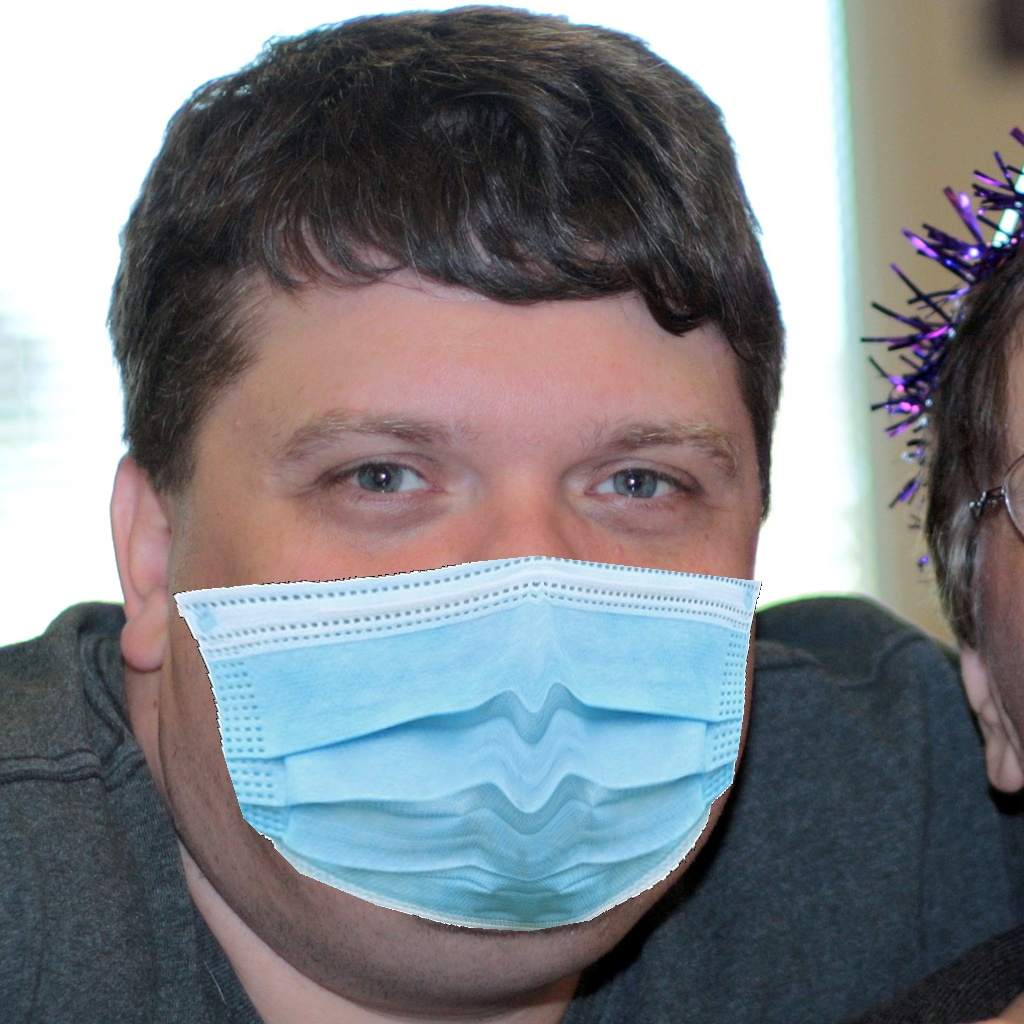Mask: (175, 389, 775, 933)
